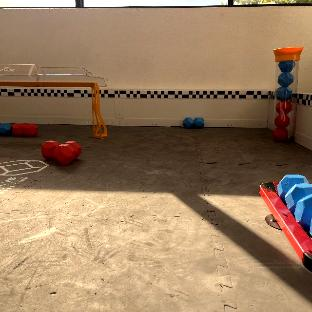V5_BLUE: (276, 175, 312, 231), (183, 117, 204, 127), (0, 123, 11, 134)
V5_RED: (41, 140, 81, 165), (275, 101, 291, 140), (11, 123, 37, 136)
